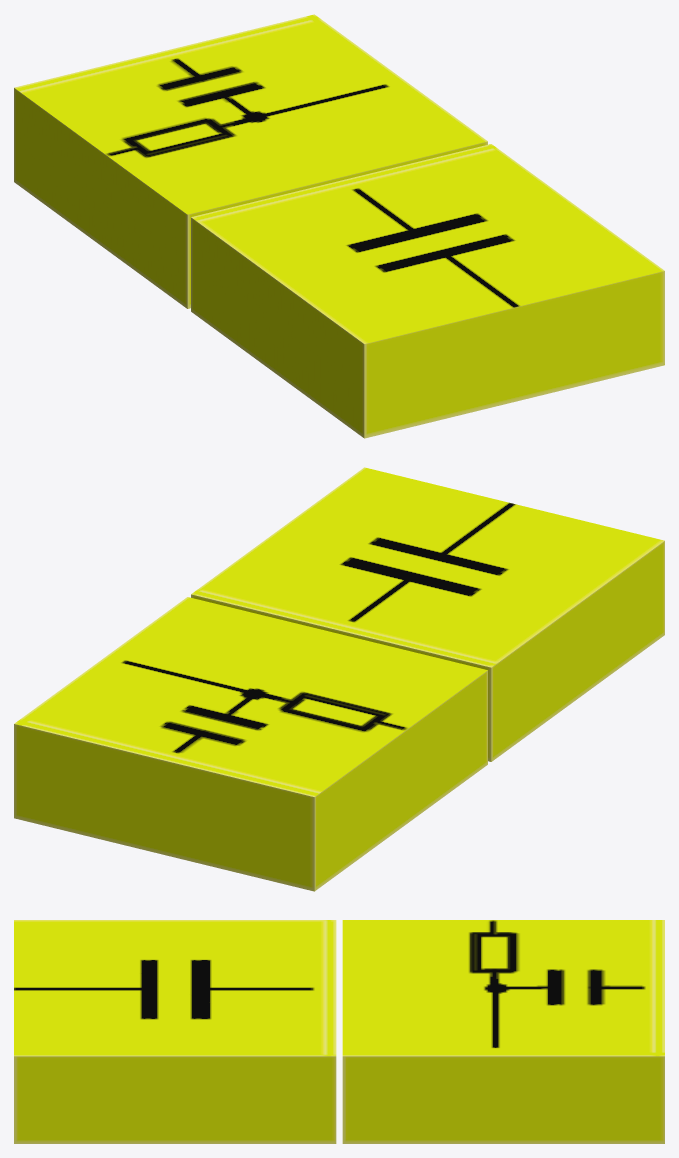
File: Electro08_6.FBX
3 renders of one model, top to bottom at view 1: azimuth 30°, elevation 25°; view 2: azimuth 150°, elevation 25°; view 3: azimuth 270°, elevation 25°, orthographic. The views are drawn at different scales.
Parts seen in each view (by area): view 1: Box002; view 2: Box002; view 3: Box002.
Part boxes in pixels (bbox=[...]): Box002: bbox=[14, 14, 664, 438]; Box002: bbox=[14, 467, 664, 891]; Box002: bbox=[14, 920, 664, 1143].
Size of the model in its own units: 19.69 by 5.91 by 39.76.
